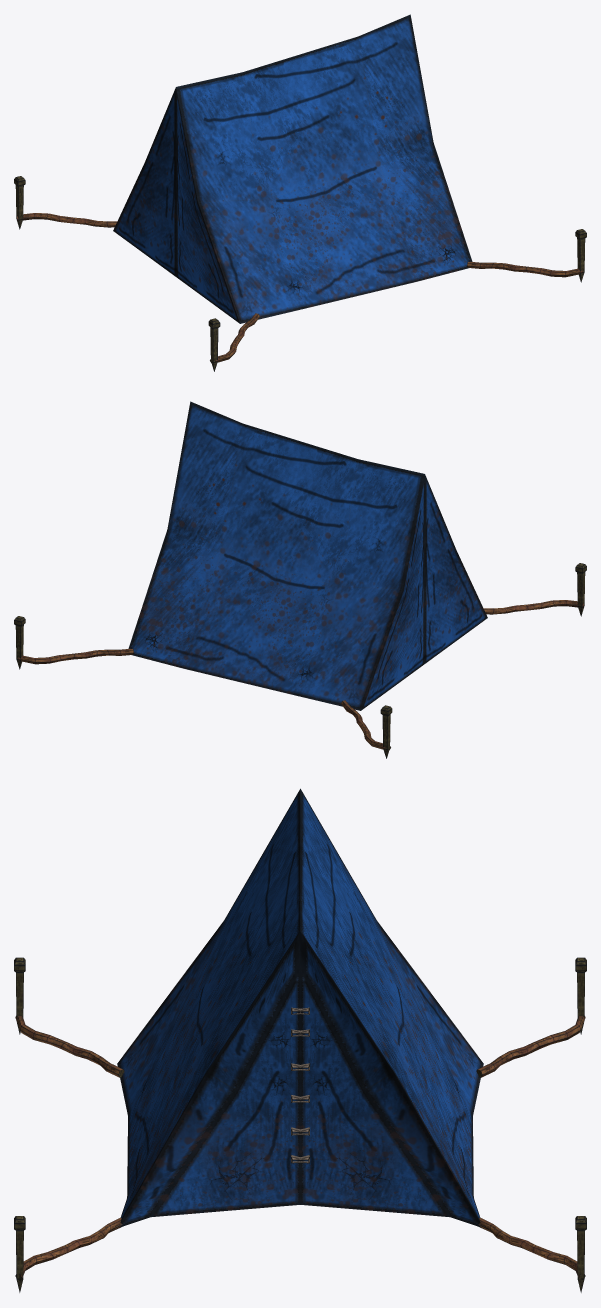
The model's file is tienda_de_acampar_-_camping_tent_lowpoly.glb.
3 renders of one model, top to bottom at view 1: azimuth 30°, elevation 25°; view 2: azimuth 150°, elevation 25°; view 3: azimuth 270°, elevation 25°, orthographic. The views are drawn at different scales.
Visible parts, largest first — view 1: Plane; view 2: Plane; view 3: Plane.
Part boxes in pixels (left/top/right/bottom): Plane: left=14, top=14, right=586, bottom=371; Plane: left=14, top=401, right=586, bottom=758; Plane: left=14, top=788, right=586, bottom=1292.
Bounding box in the file's own units: 3.4 × 1.87 × 3.13.
Materials: 1 (1 with a texture image).
